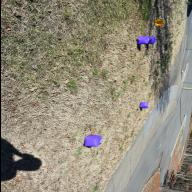cone: (154, 18, 162, 26)
cube: (83, 135, 101, 147), (136, 36, 148, 44), (147, 36, 155, 44), (138, 102, 148, 108)
